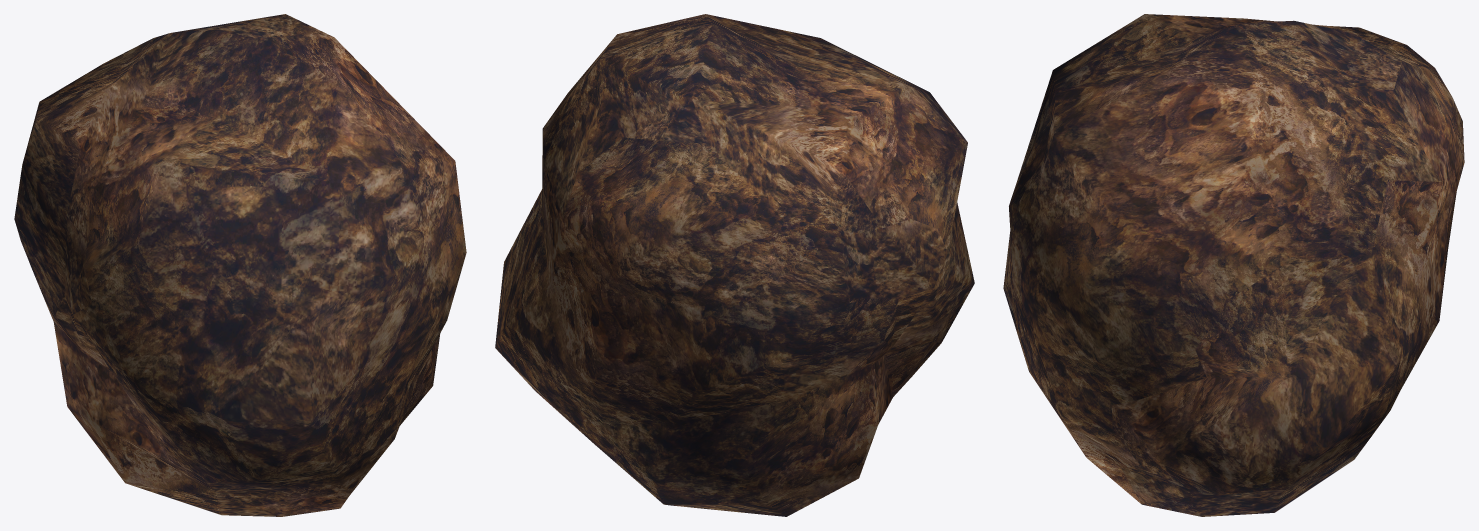
The model's file is stg600_obj_meteoriteA02.obj.
3 renders of one model, left to right at view 1: azimuth 30°, elevation 25°; view 2: azimuth 150°, elevation 25°; view 3: azimuth 270°, elevation 25°, orthographic. The views are drawn at different scales.
Parts seen in each view (by area): view 1: polygon0; view 2: polygon0; view 3: polygon0.
Boxes of the visible parts, x1=… form: polygon0: x1=14, y1=14, x2=466, y2=516; polygon0: x1=495, y1=14, x2=974, y2=516; polygon0: x1=1003, y1=14, x2=1464, y2=516.
Bounding box in the file's own units: 85.66 × 99.03 × 86.68.
1 material, 1 textured.
